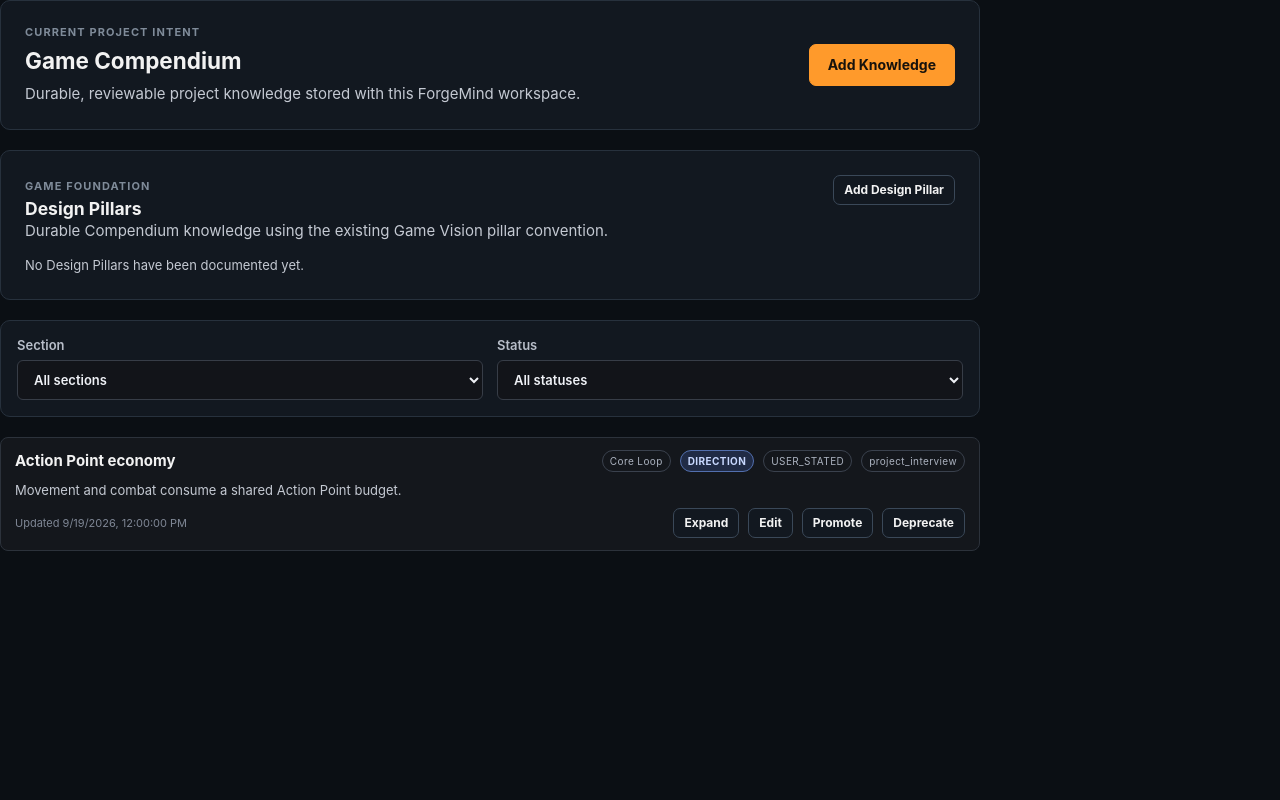
it: Game Compendium › edits an entry and changes its status
Expected: the heading "Game Compendium" is shown, [25,47,242,74]
Click the button "Edit": (771, 524) [748,508,793,538]
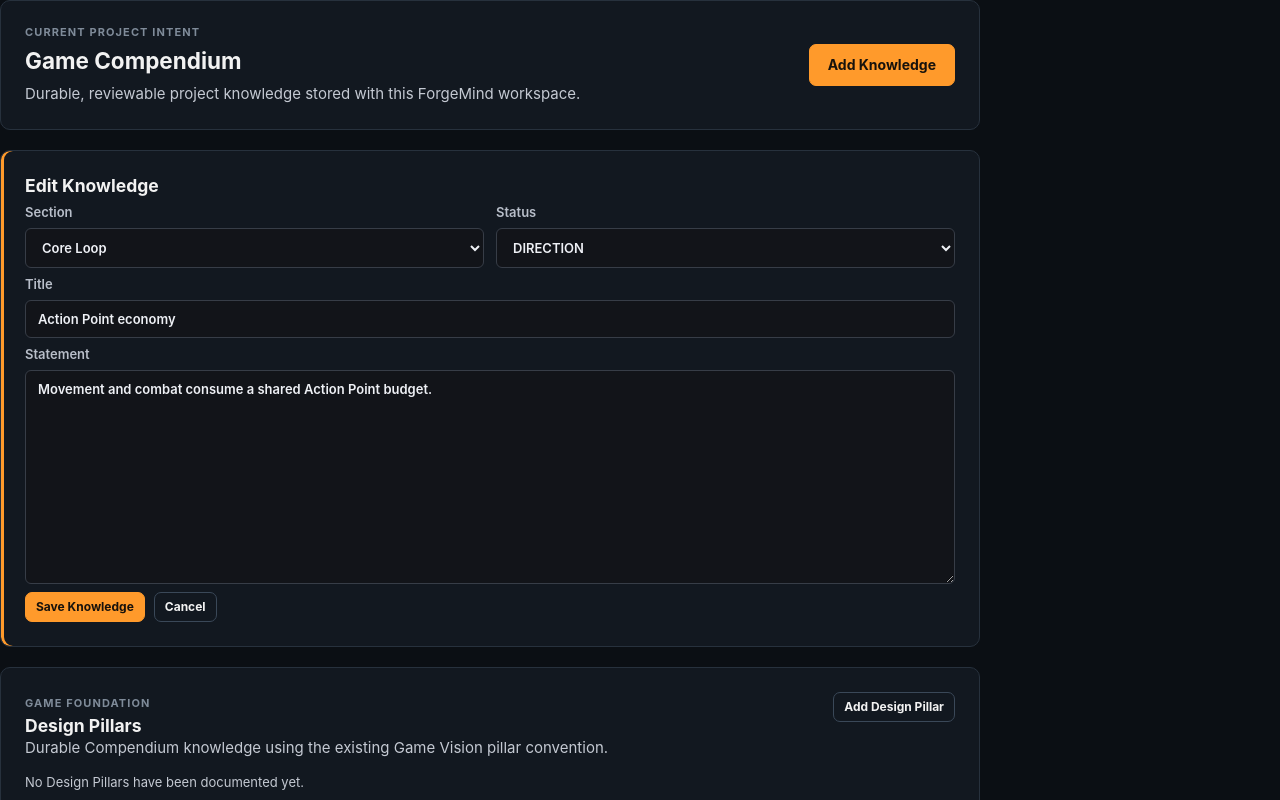
Replace the text in the field labelled "Title" with "Locked Action Point economy": (490, 319) [25,300,955,338]
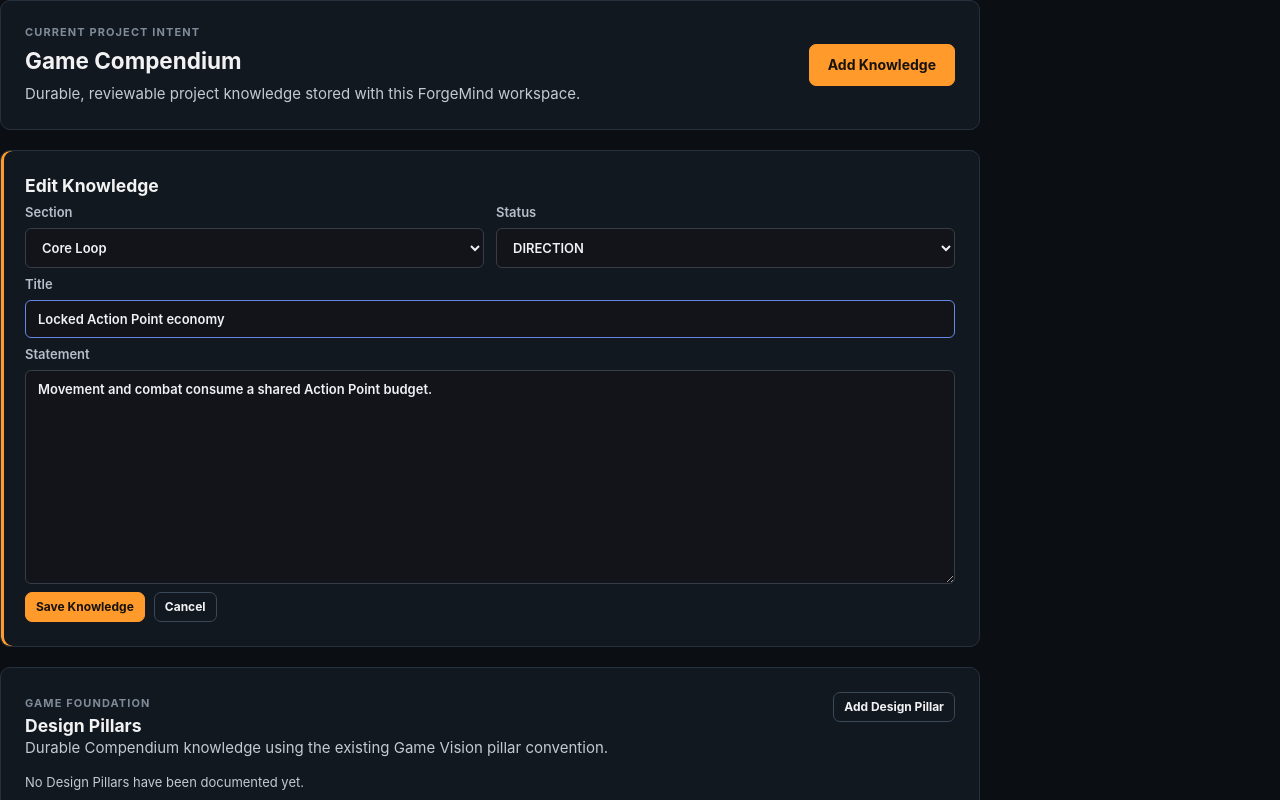
Select "LOCKED" in the dropdown labelled "Status": (726, 248) [496,228,955,268]
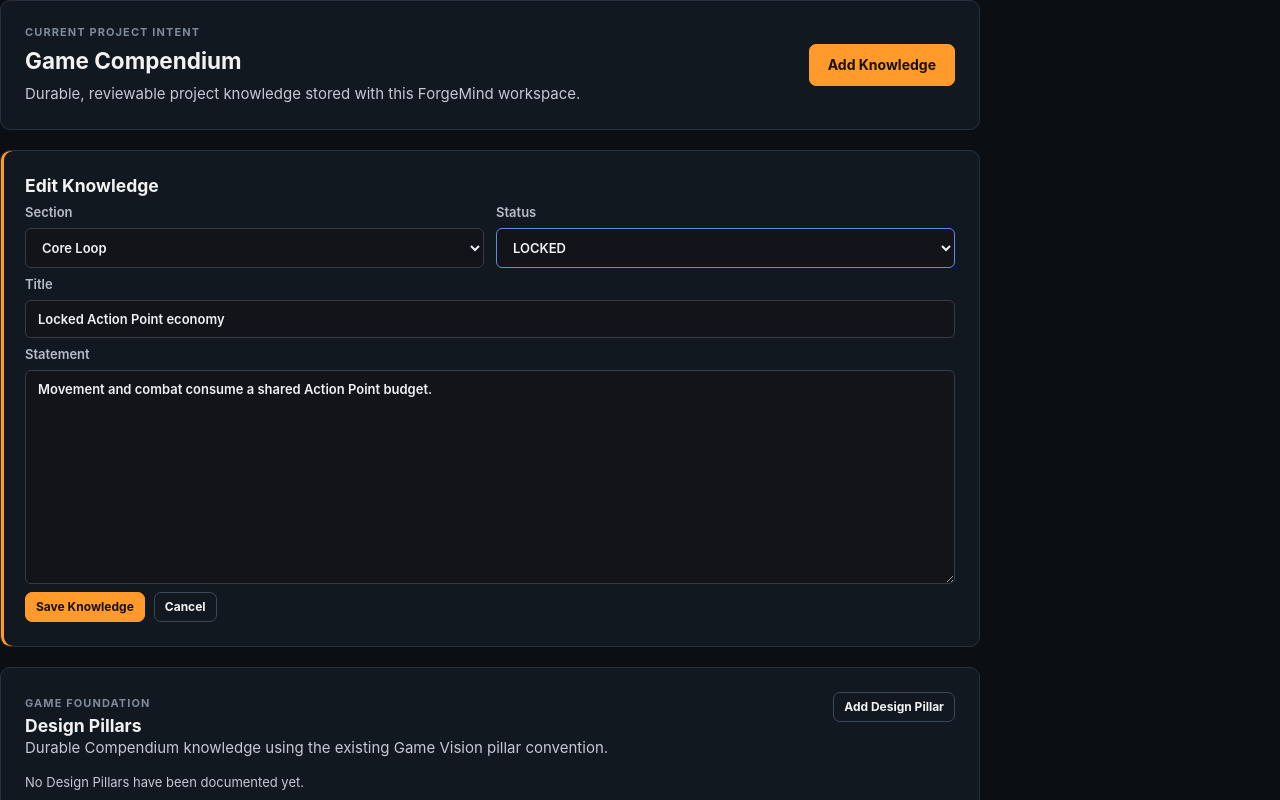
Click the button "Save Knowledge": (85, 607) [25,592,145,622]
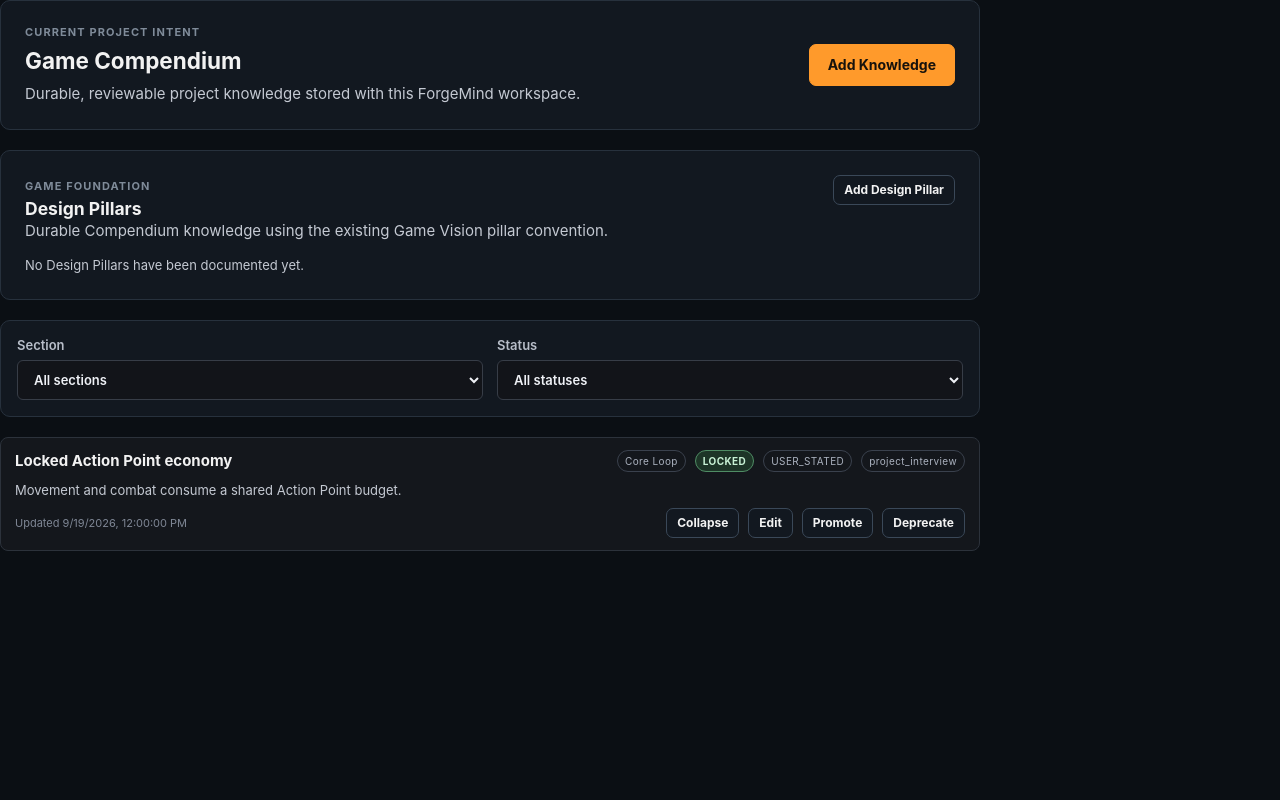
Expected: the heading "Locked Action Point economy" is shown, [15,451,232,470]
